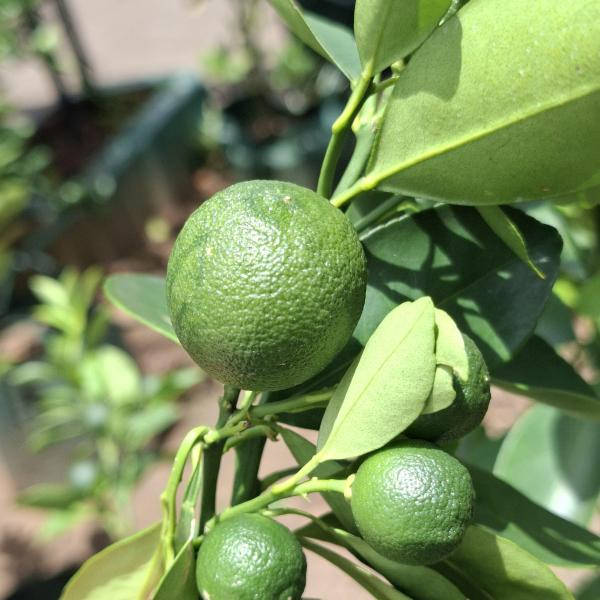Scab: (156, 171, 366, 415)
